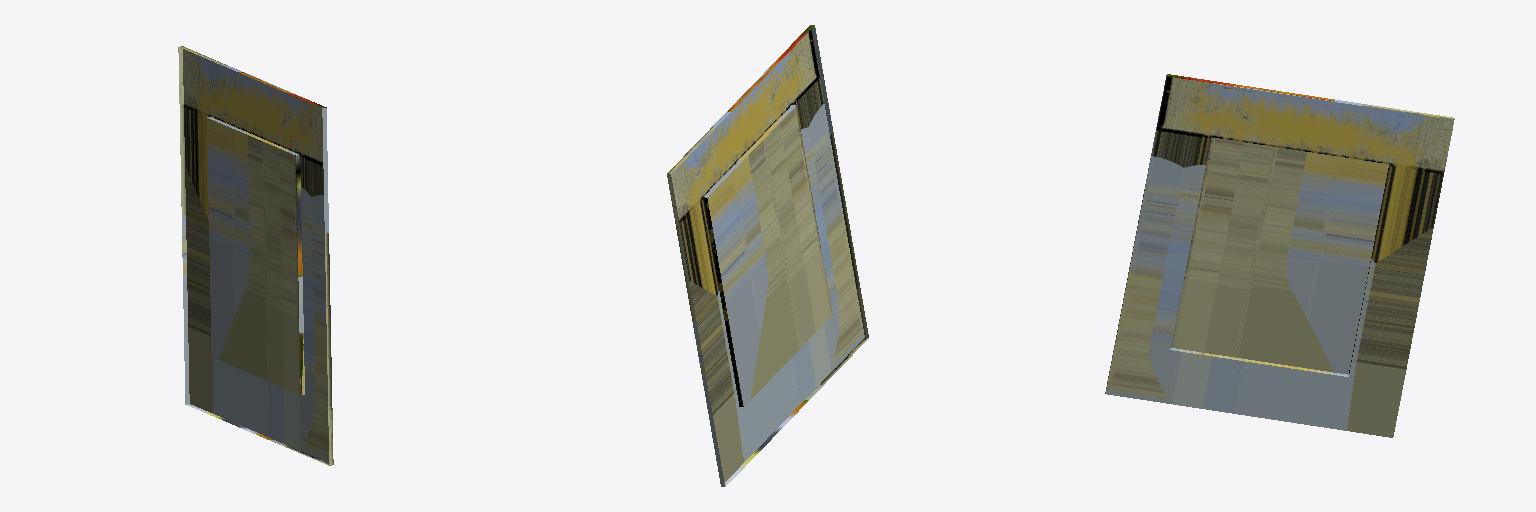
3 renders of one model, left to right at view 1: azimuth 30°, elevation 25°; view 2: azimuth 150°, elevation 25°; view 3: azimuth 270°, elevation 25°, orthographic.
Parts seen in each view (by area): view 1: Plane.006; view 2: Plane.006; view 3: Plane.006.
Part boxes in pixels (bbox=[...]): Plane.006: bbox=[178, 46, 333, 465]; Plane.006: bbox=[667, 25, 868, 486]; Plane.006: bbox=[1105, 74, 1454, 437].
Size of the model in its own units: 0.033 by 0.4221 by 0.3573.
Materials: 1 (1 with a texture image).